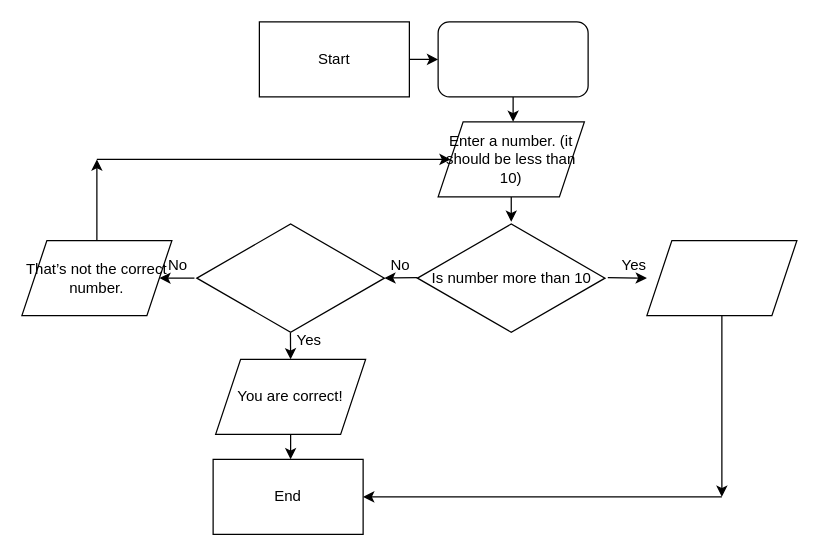
The diagram is 819 pixels wide and 556 high, and some of its shapes have lost their labels. The centre of each missing label's shape, as x and y in pixels:
"ERROR: Input is more than 10" belongs at point 721,277.
"Is input correct?" belongs at point 290,277.
"Set correct number: 7" belongs at point 512,59.
